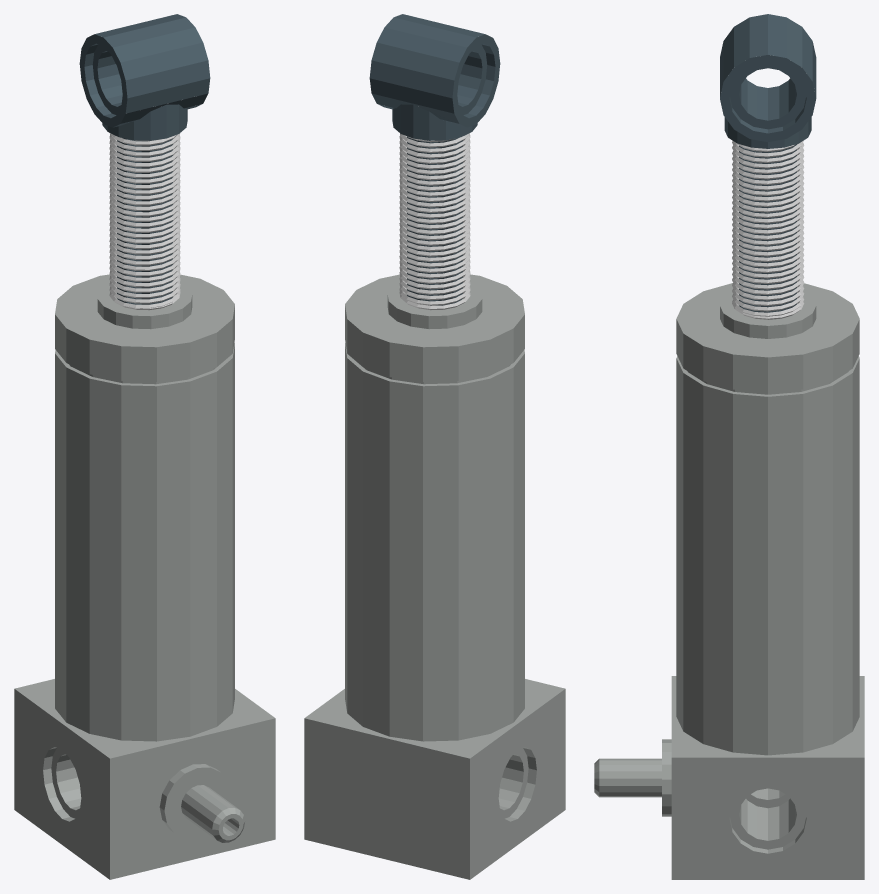
The picture shows the model from 3 angles, left to right: view 1: azimuth 30°, elevation 25°; view 2: azimuth 150°, elevation 25°; view 3: azimuth 270°, elevation 25°; orthographic projection.
Visible parts, largest first — view 1: world; view 2: world; view 3: world.
Part boxes in pixels (x1,y1,x2,y2): world: [14, 14, 275, 879]; world: [304, 14, 565, 879]; world: [594, 14, 864, 879].
Size of the model in its own units: 0.016 by 0.0736 by 0.0224.
